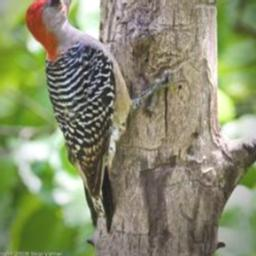Woodpecker: (13, 0, 189, 233)
